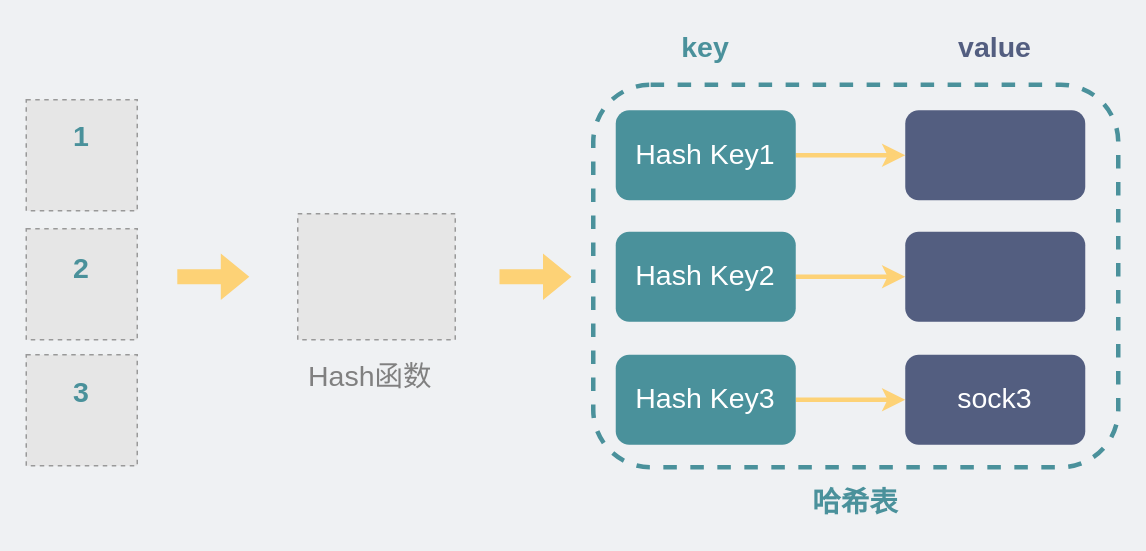
Image size: 1146x551. Some labels were removed from this diagram. Grey dashed boxes stand in for pictures. Each missing label, with the centre of its shape:
sock1: the point at 994,155
sock2: the point at 994,276
